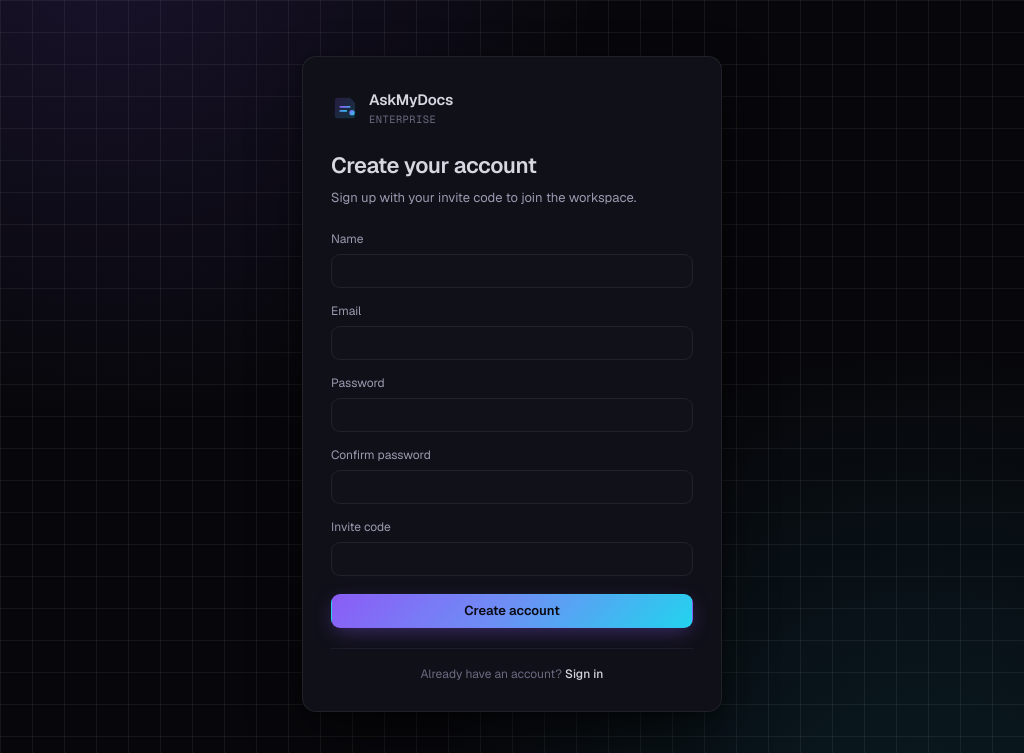
Test: RegisterPage › blocks an empty submit with client-side validation (invite code required)
The width and height of the screenshot is (1024, 753).
Click the button "Create account" at (512, 611), box [331,594,693,628]
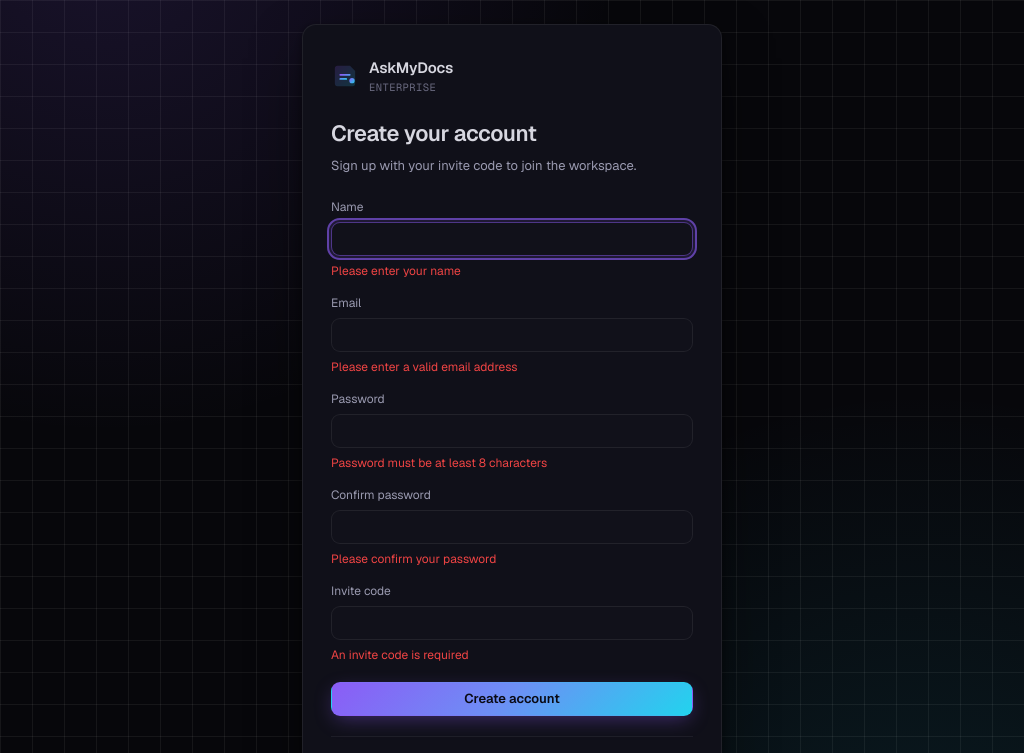
Now the text "An invite code is required" is shown, box [331,647,469,663]
